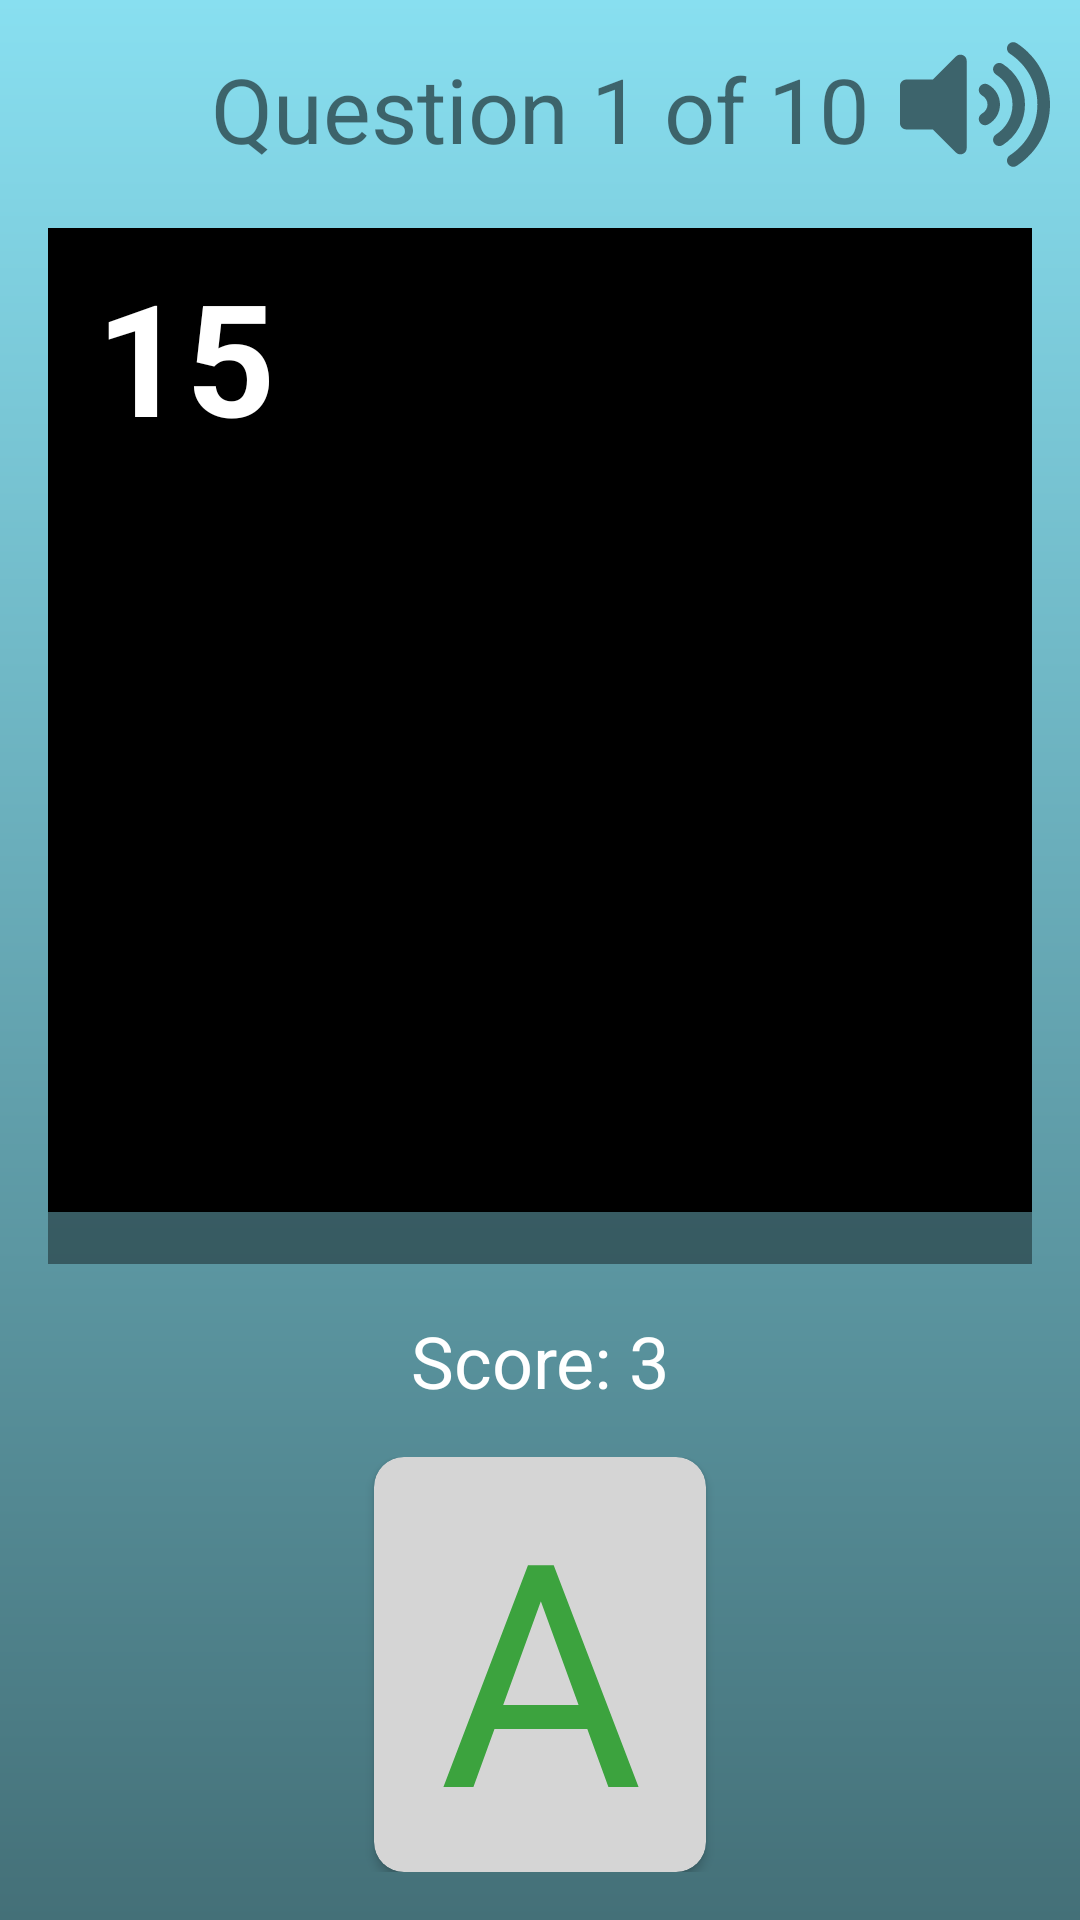

Point at icon controls on the screen. Image size 1080×1920, points as (x=x, y=y).
volume on: (x=975, y=104)
